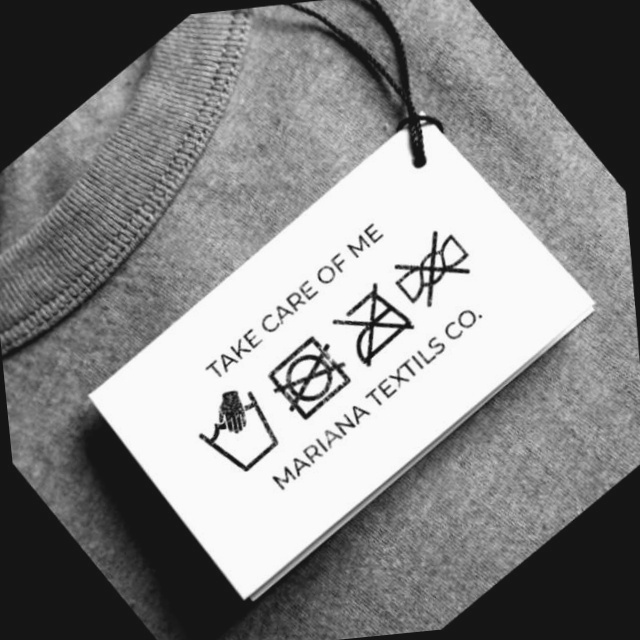DN_iron: (333, 281, 413, 367)
DN_tumble_dry: (263, 333, 349, 418)
DN_wring: (390, 226, 475, 306)
hand_wash: (193, 384, 282, 481)
